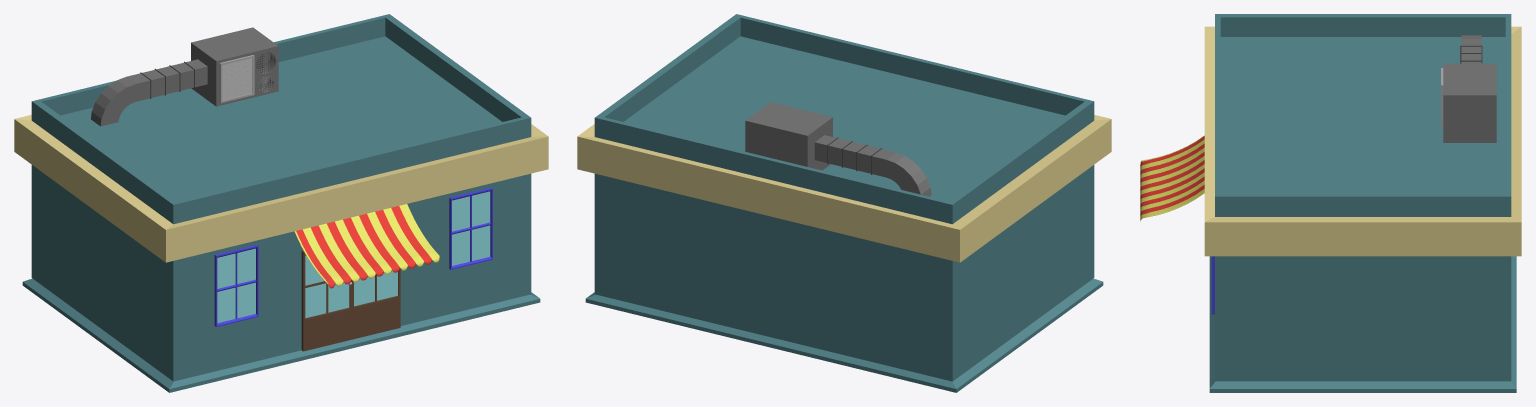
The model's file is CASAADIblend.fbx.
3 views of the same model, side by side, from view 1: azimuth 30°, elevation 25°; view 2: azimuth 150°, elevation 25°; view 3: azimuth 270°, elevation 25° (orthographic). The views are drawn at different scales.
Visible parts, largest first — view 1: cladire, Plane.001, vent, usa s, vent tube, geam s, geam d, usa d, grilaj fen stanga; view 2: cladire, vent, vent tube; view 3: cladire, vent, Plane.001, vent tube.
Boxes of the visible parts, <box> form: cladire: <box>14,14,548,392</box>; Plane.001: <box>294,204,439,288</box>; vent: <box>191,27,278,106</box>; usa s: <box>301,250,351,351</box>; vent tube: <box>91,59,207,126</box>; geam s: <box>214,244,258,326</box>; geam d: <box>449,187,492,269</box>; usa d: <box>352,268,400,339</box>; grilaj fen stanga: <box>219,55,254,103</box>; cladire: <box>577,14,1111,392</box>; vent: <box>745,102,832,170</box>; vent tube: <box>814,135,931,196</box>; cladire: <box>1204,14,1521,392</box>; vent: <box>1443,63,1496,142</box>; Plane.001: <box>1140,135,1204,221</box>; vent tube: <box>1460,35,1482,63</box>.
Size of the model in its own units: 764 by 403 by 630.
